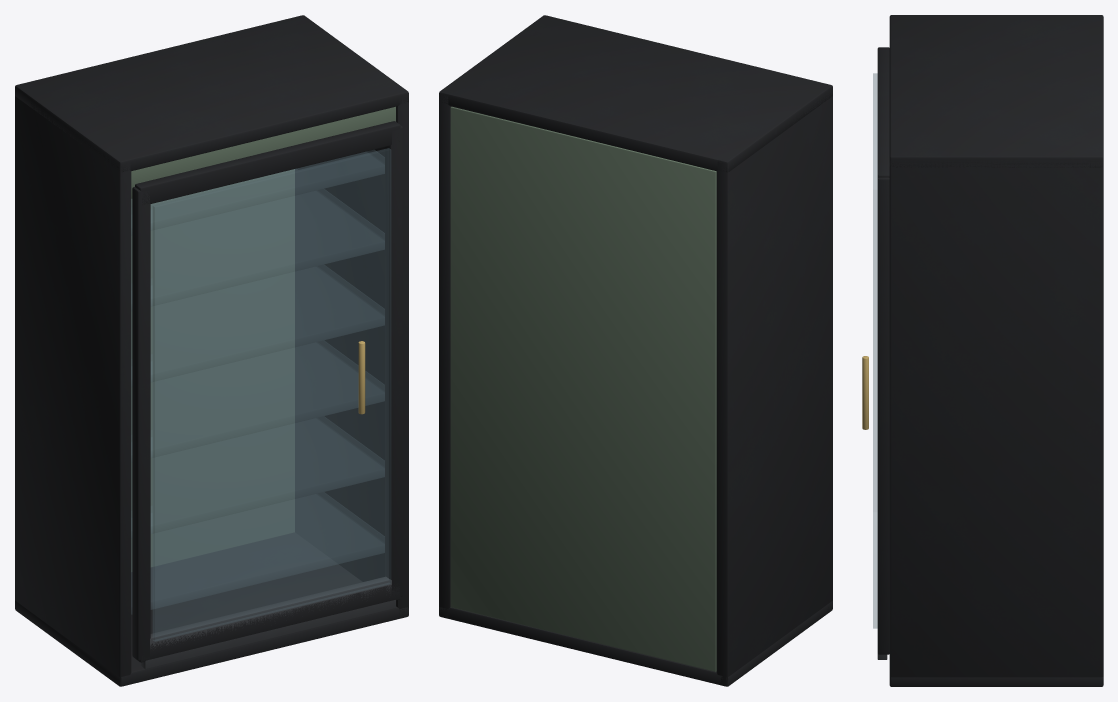
Rendered from pf_display_drink_refrigerator_t3.glb.
3 renders of one model, left to right at view 1: azimuth 30°, elevation 25°; view 2: azimuth 150°, elevation 25°; view 3: azimuth 270°, elevation 25°, orthographic.
Visible parts, largest first — view 1: Door_Glass_01, Case_Left, Case_Back, Case_Right, Case_Top, Case_Base, Shelf_05, Shelf_01, Shelf_02, Shelf_04, Shelf_03, Door_Frame_01_L (+6 smaller); view 2: Case_Back, Case_Left, Case_Top, Case_Right, Case_Base; view 3: Case_Right, Case_Top, Door_Frame_01_R, Door_Glass_01, Case_Base, Door_Frame_01_Top, Door_Handle_01.
Part boxes in pixels (x1,y1,x2,y2): Door_Glass_01: (153,148,390,641); Case_Left: (15,96,131,686); Case_Back: (131,169,294,571); Case_Right: (295,94,408,617); Case_Top: (15,15,408,172); Case_Base: (15,532,408,686); Shelf_05: (131,169,384,310); Shelf_01: (131,492,384,614); Shelf_02: (131,417,384,538); Shelf_04: (131,265,384,386); Shelf_03: (131,341,384,462); Door_Frame_01_L: (132,187,150,660); Case_Back: (450,106,716,671); Case_Left: (716,88,832,686); Case_Top: (439,15,832,172); Case_Right: (439,92,451,618); Case_Base: (439,600,832,686); Case_Right: (889,156,1103,686); Case_Top: (889,15,1103,167); Door_Frame_01_R: (877,177,889,653); Door_Glass_01: (873,73,877,628); Case_Base: (891,677,1103,685); Door_Frame_01_Top: (877,47,889,177); Door_Handle_01: (862,356,868,429).
Bounding box in the file's own units: 1.2 × 2.08 × 0.857.
7 materials, 2 textured.
